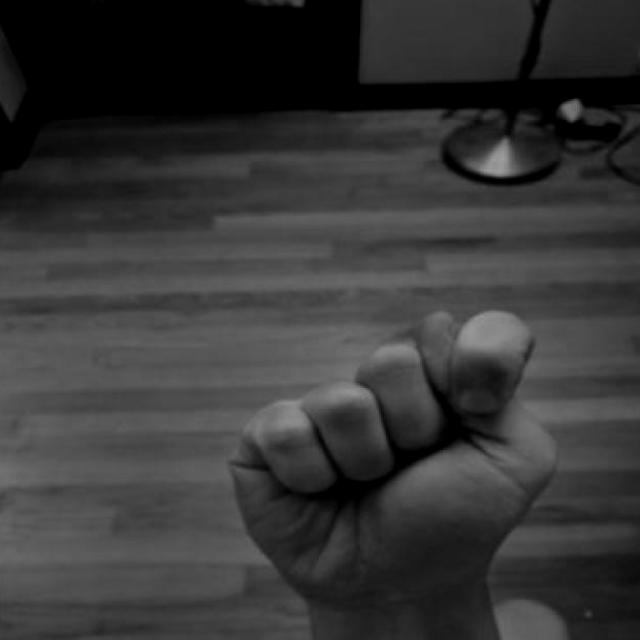T: (200, 295, 608, 640)
